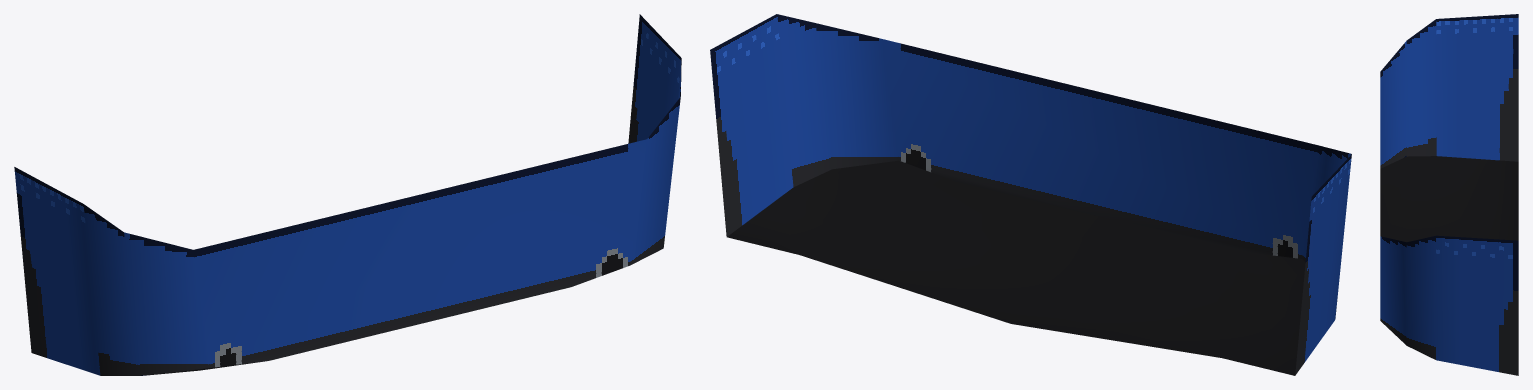
Rendered from bumper_R_stock.glb.
3 views of the same model, side by side, from view 1: azimuth 30°, elevation 25°; view 2: azimuth 150°, elevation 25°; view 3: azimuth 270°, elevation 25° (orthographic). The views are drawn at different scales.
Visible parts, largest first — view 1: bumper_R_stock; view 2: bumper_R_stock; view 3: bumper_R_stock.
Boxes of the visible parts, x1,y1,x2,y2 form: bumper_R_stock: [14, 14, 681, 375]; bumper_R_stock: [710, 14, 1351, 375]; bumper_R_stock: [1380, 14, 1518, 375].
Bounding box in the file's own units: 1.82 × 0.58 × 0.47.
Materials: 1 (1 with a texture image).
